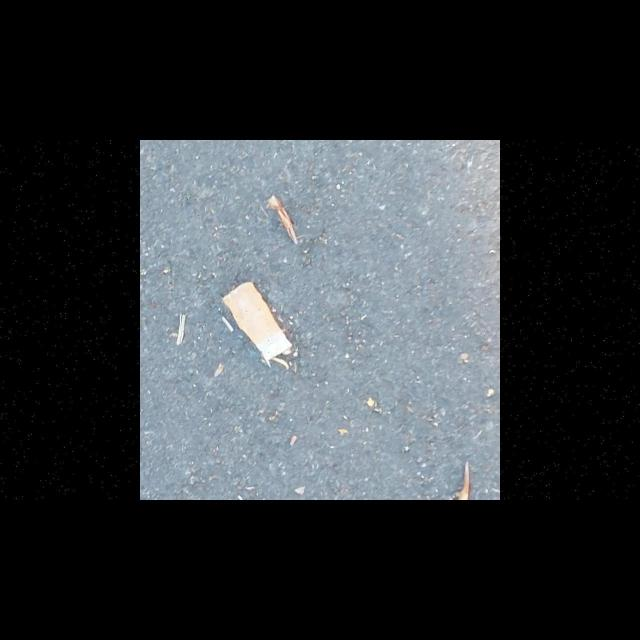cigarette: (221, 279, 294, 363)
